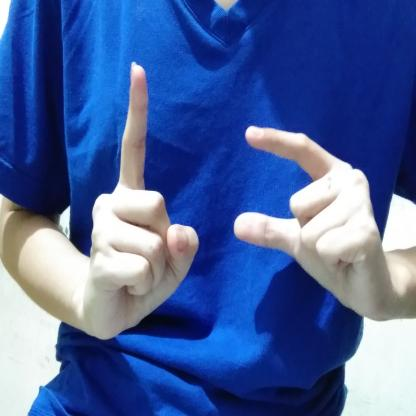daughter: (88, 57, 393, 355)
